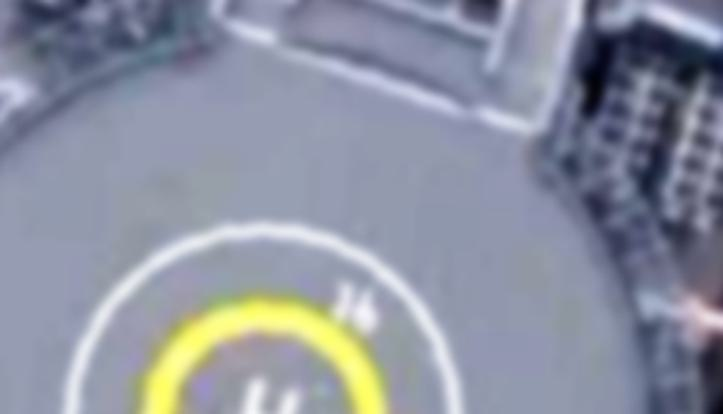Apron: (129, 281, 405, 414)
